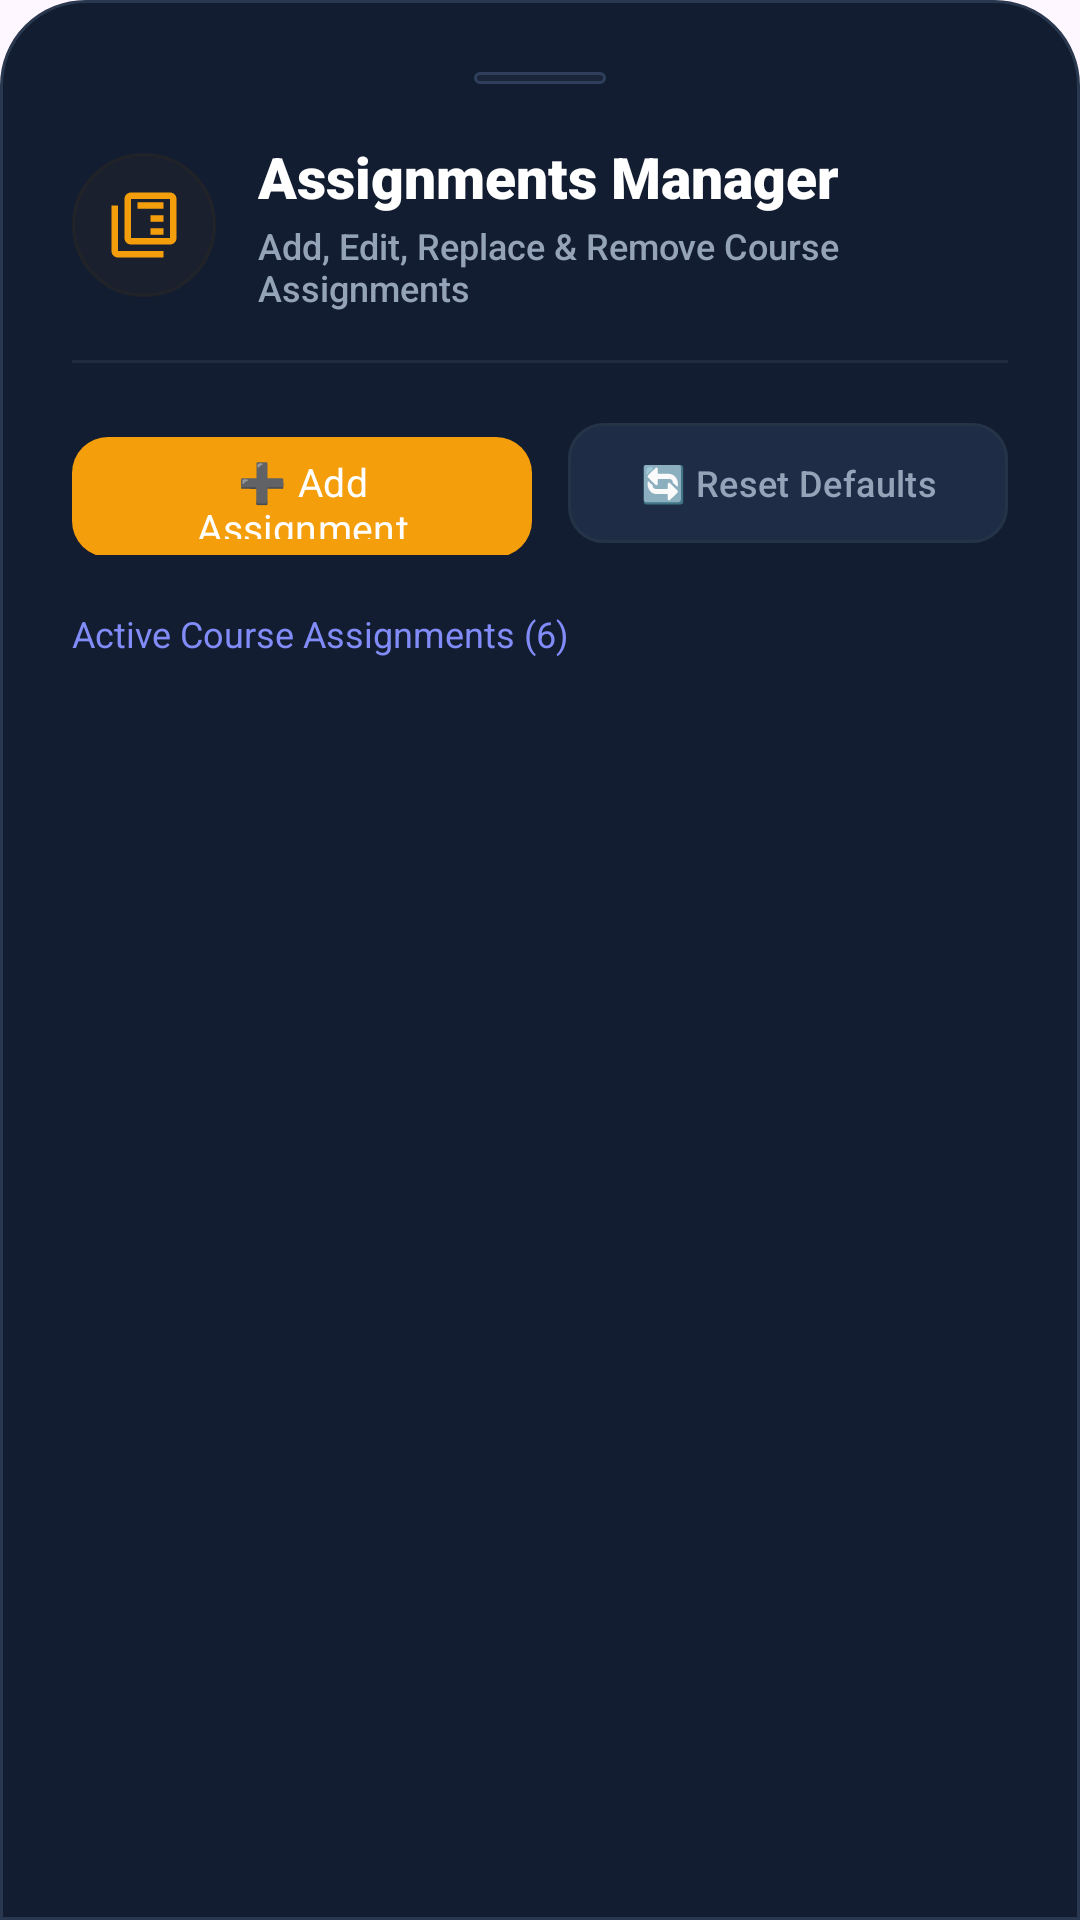

Where to tap for icons on this 1080 × 1920 app screen, as (x,y):
Assignment Manager: (144,225)
